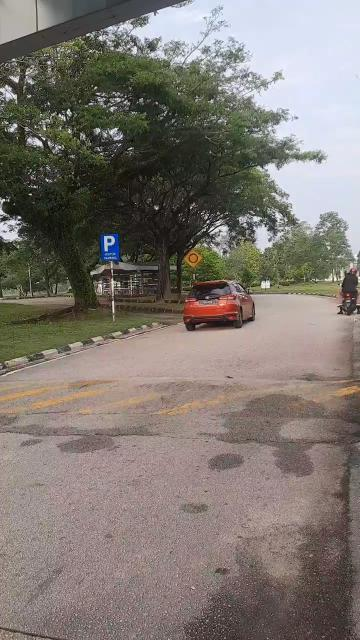car: (183, 278, 257, 336)
